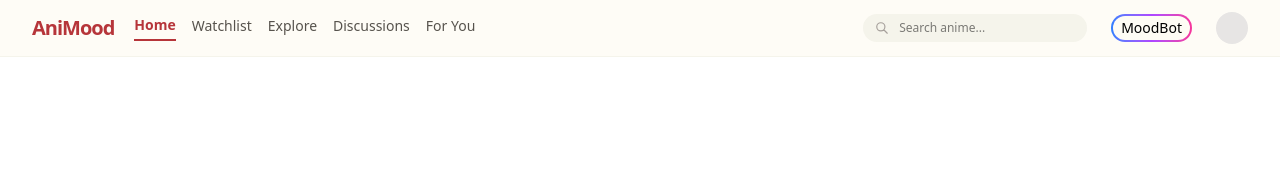
Test case: NavBar Global Search › Verify Search Autocomplete Dropdown
Type "Naruto" into the field with placeholder "Search anime..." at (975, 28), box [863,14,1087,42]
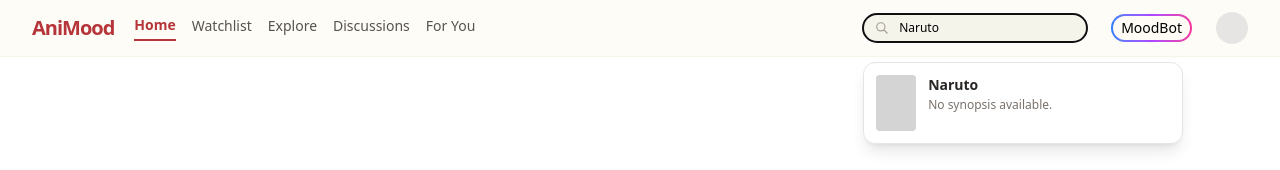
Check: the text "Naruto" is shown, box [928,75,978,94]
